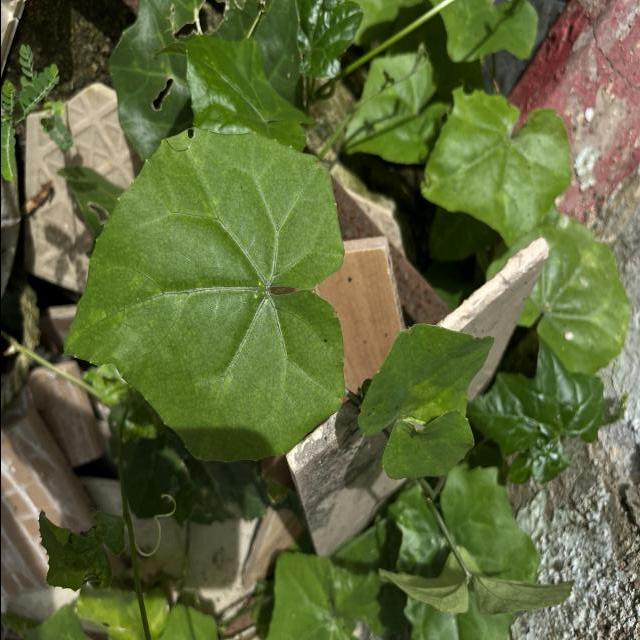Coccinia grandis: (58, 122, 352, 466)
